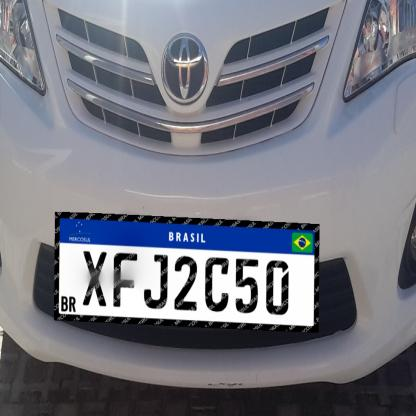PlacaM: (54, 212, 320, 332)
